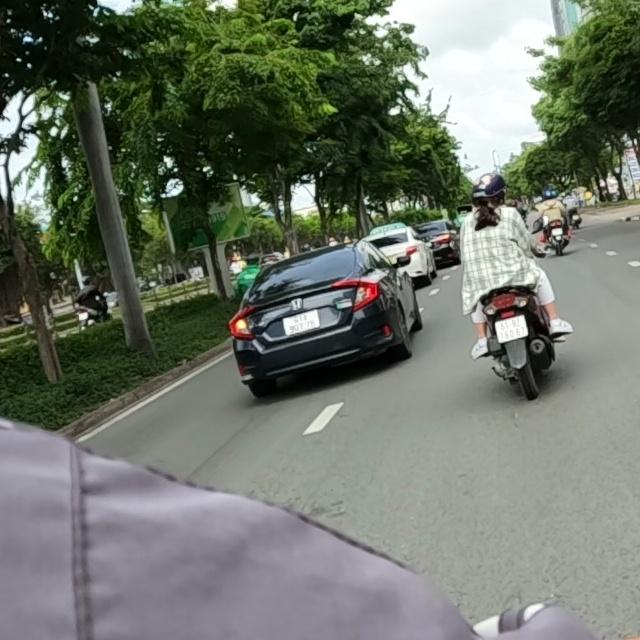license-plate: (282, 309, 321, 336), (495, 315, 529, 343)
